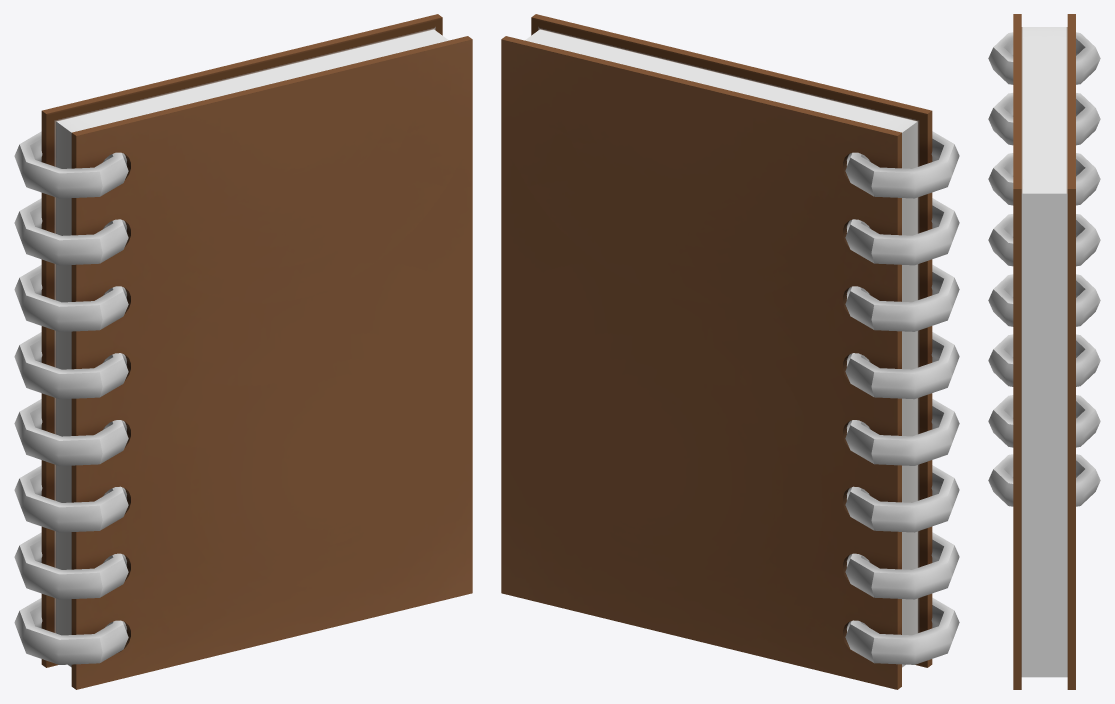
File: note.FBX
The picture shows the model from 3 angles, left to right: view 1: azimuth 30°, elevation 25°; view 2: azimuth 150°, elevation 25°; view 3: azimuth 270°, elevation 25°; orthographic projection. The views are drawn at different scales.
Parts seen in each view (by area): view 1: note; view 2: note; view 3: note.
Boxes of the visible parts, x1,y1,x2,y2 form: note: (14, 14, 472, 689); note: (501, 14, 959, 689); note: (988, 14, 1100, 689).
Size of the model in its own units: 32.49 by 39.67 by 8.07.
